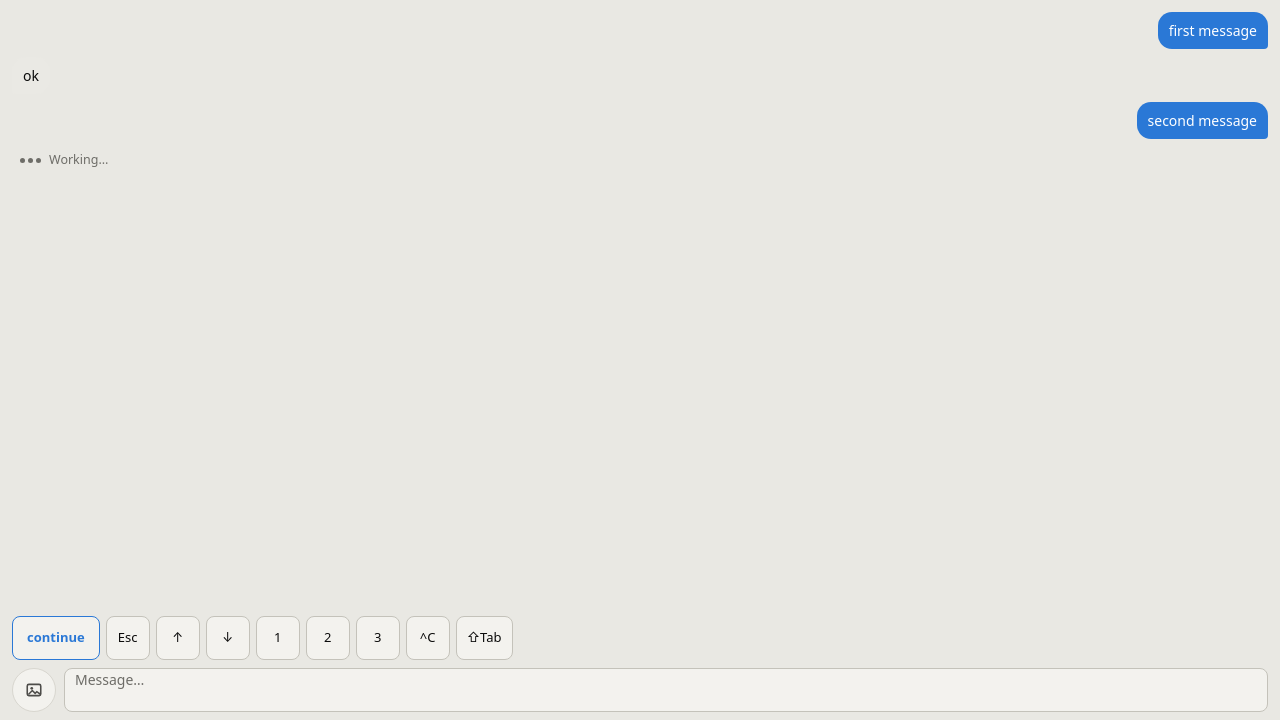
Test: SessionChat keys behave as in the terminal (PM-116) › marks a message sent while the CLI works as queued
expect the text "second message" is shown: met, box [1148, 111, 1257, 130]
In the text box named "Message to the session": (666, 690) [64, 668, 1268, 712], type "also do this"
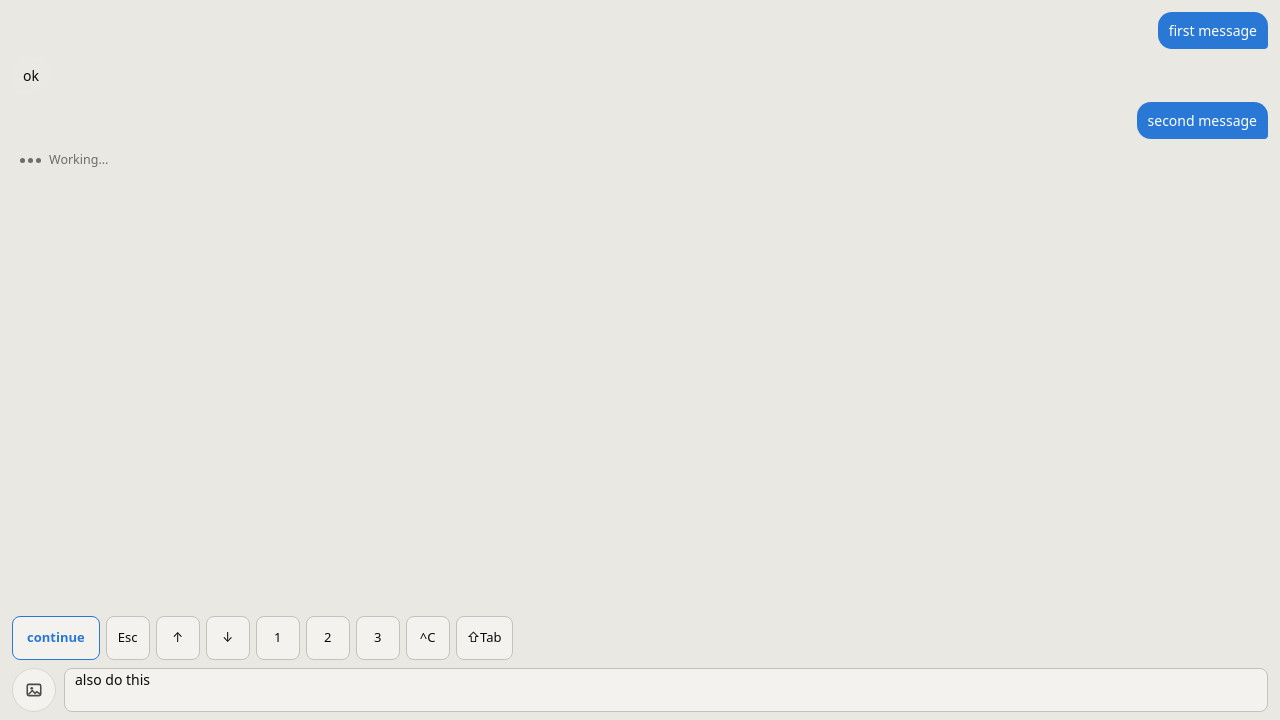
Press Enter in the text box named "Message to the session", box [64, 668, 1268, 712]
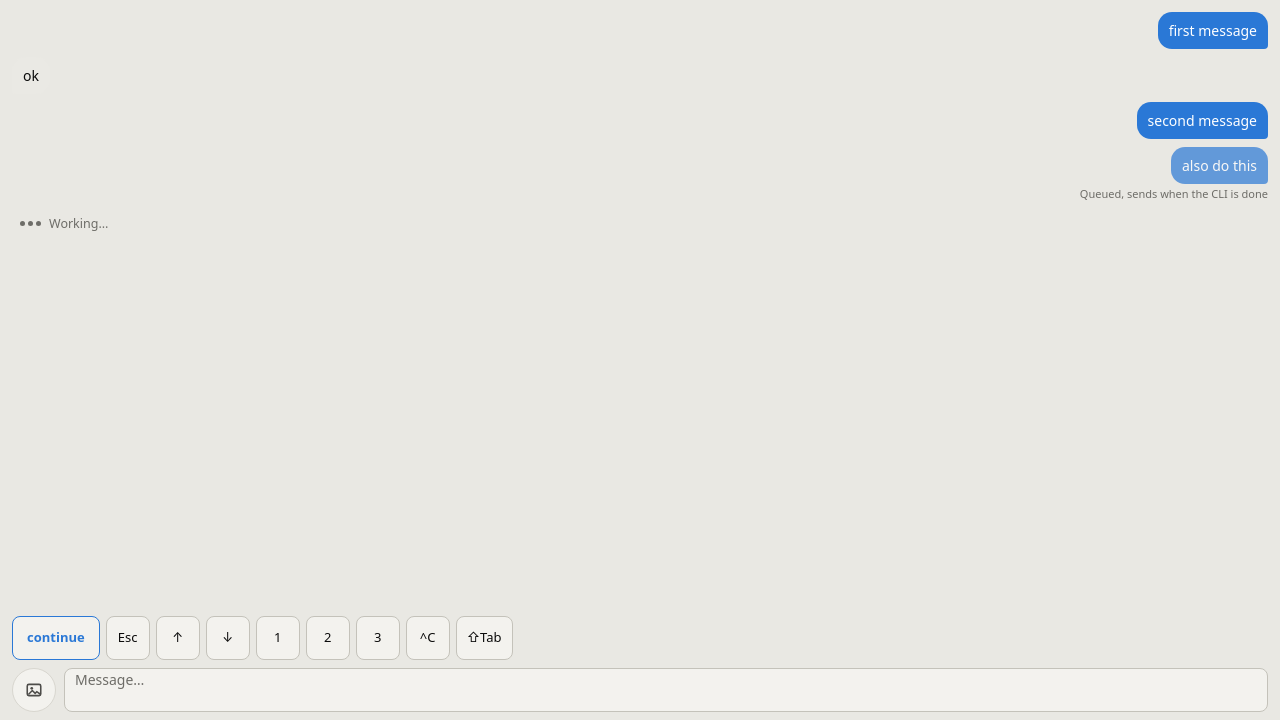
expect the text "Queued, sends when the CLI is done" is shown: met, box [1080, 186, 1268, 202]
